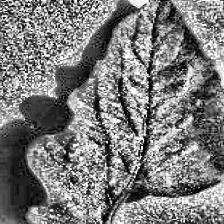spider mites: (26, 0, 224, 224)
